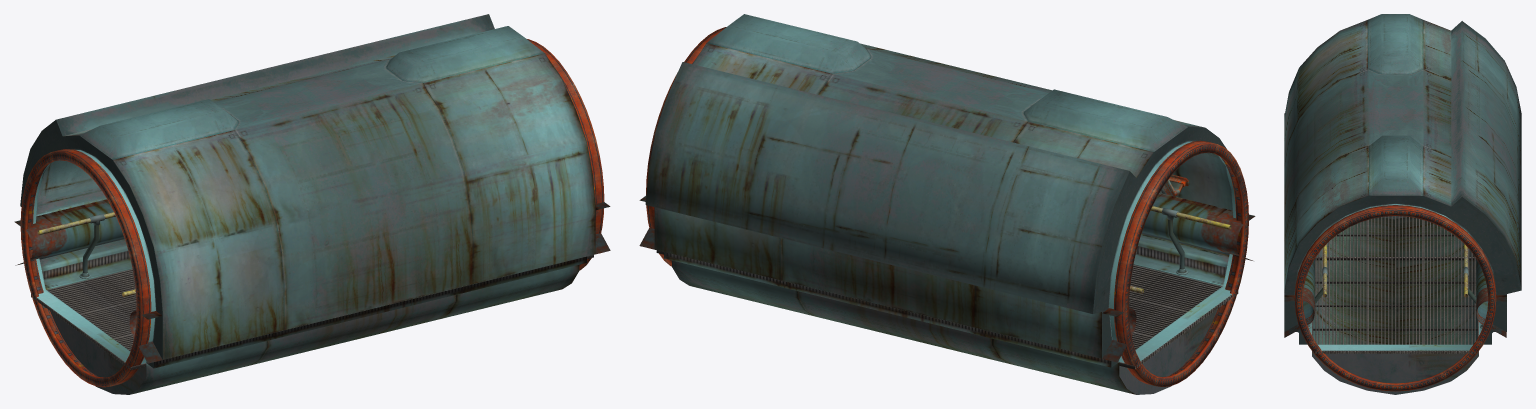
File: tau_tunnel_straight.dae
The picture shows the model from 3 angles, left to right: view 1: azimuth 30°, elevation 25°; view 2: azimuth 150°, elevation 25°; view 3: azimuth 270°, elevation 25°; orthographic projection. The views are drawn at different scales.
Parts seen in each view (by area): view 1: pCylinder67, pPipe67, pCylinder74, polySurface237, pPipe66, polySurface236, pCylinder69, polySurface456; view 2: pCylinder67, pPipe67, pCylinder69, polySurface235, polySurface236, polySurface456, pCylinder74, pPipe66; view 3: pCylinder67, pPipe66, polySurface342, polySurface341, polySurface343, polySurface236, pCylinder69, pCylinder74, polySurface237, polySurface235, polySurface456.
Boxes of the visible parts, x1,y1,x2,y2 form: pCylinder67: (20,14,595,394); pPipe67: (20,149,151,387); pCylinder74: (14,199,124,265); polySurface237: (31,269,136,320); pPipe66: (527,39,604,270); polySurface236: (64,301,136,345); pCylinder69: (129,202,610,363); polySurface456: (37,212,135,296); pCylinder67: (645,14,1235,394); pPipe67: (1114,140,1248,386); pCylinder69: (1141,193,1255,260); polySurface235: (1129,265,1238,318); polySurface236: (1129,297,1203,343); polySurface456: (1130,206,1231,293); pCylinder74: (639,196,1136,362); pPipe66: (646,27,726,266); pCylinder67: (1284,14,1521,394); pPipe66: (1294,205,1496,391); polySurface342: (1367,257,1423,353); polySurface341: (1423,257,1478,353); polySurface343: (1312,257,1367,353); polySurface236: (1367,216,1423,257); pCylinder69: (1284,113,1314,337); pCylinder74: (1476,259,1506,337); polySurface237: (1423,220,1474,257); polySurface235: (1316,220,1367,257); polySurface456: (1307,244,1483,328).
Size of the model in its own units: 8 by 4.17 by 4.27.
